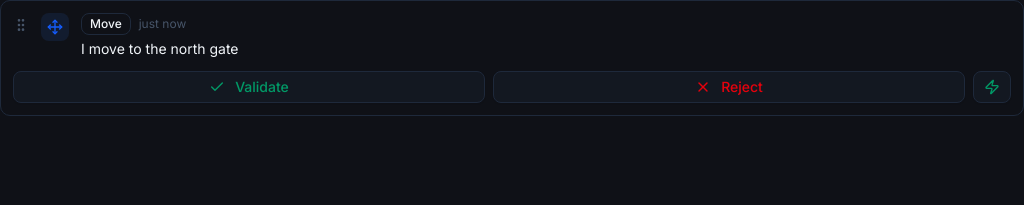
Test case: ActionCard › GM validation controls › shows narrative note textarea on Validate click
Click the button "Validate".
click(249, 87)  # box [13,71,485,103]
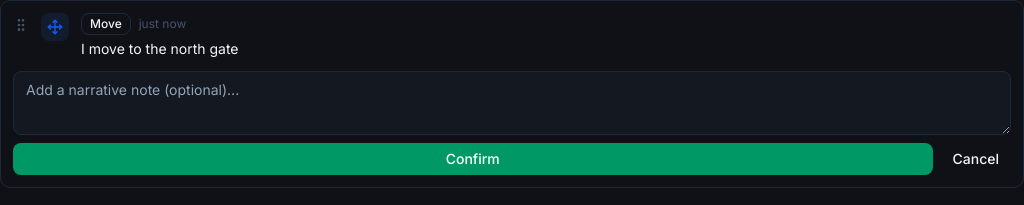
Check: the text box with placeholder "Add a narrative note (optional)..." is shown, box [13,71,1011,135]
Check: the button "Confirm" is shown, box [13,143,932,175]
Check: the button "Cancel" is shown, box [940,143,1011,175]
